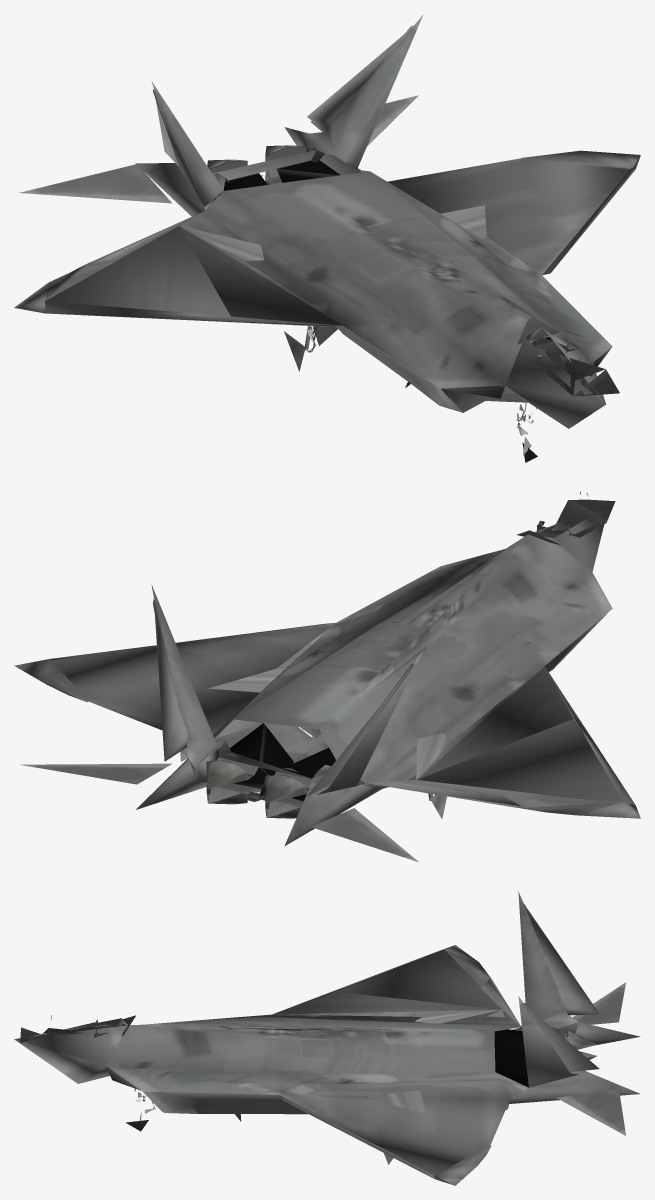
File: jet_f22_lod1.glb
3 views of the same model, one above another, from view 1: azimuth 30°, elevation 25°; view 2: azimuth 150°, elevation 25°; view 3: azimuth 270°, elevation 25° (orthographic). The views are drawn at different scales.
Parts seen in each view (by area): view 1: LOD1; view 2: LOD1; view 3: LOD1.
Part boxes in pixels (x1,y1,x2,y2): LOD1: (14,14,640,462); LOD1: (14,491,640,861); LOD1: (14,891,640,1185).
Size of the model in its own units: 13.8 by 5.2 by 15.17.
1 material, 1 textured.
